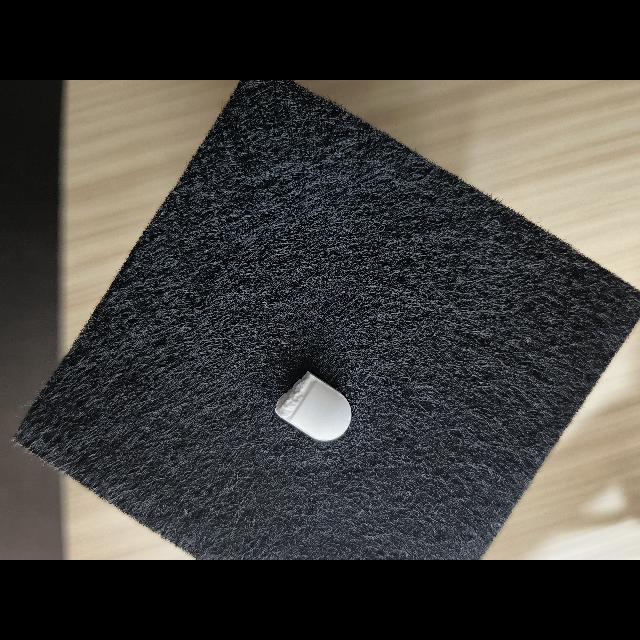Chipped Pill: (275, 371, 352, 441)
